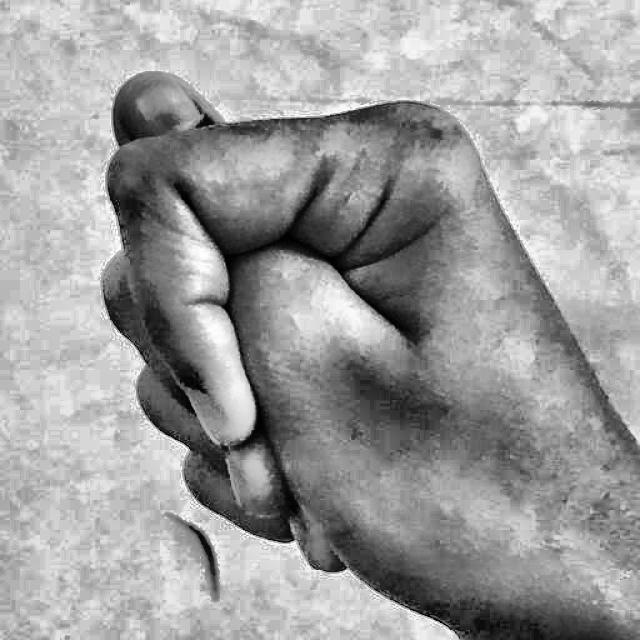Ta: (72, 25, 606, 640)
